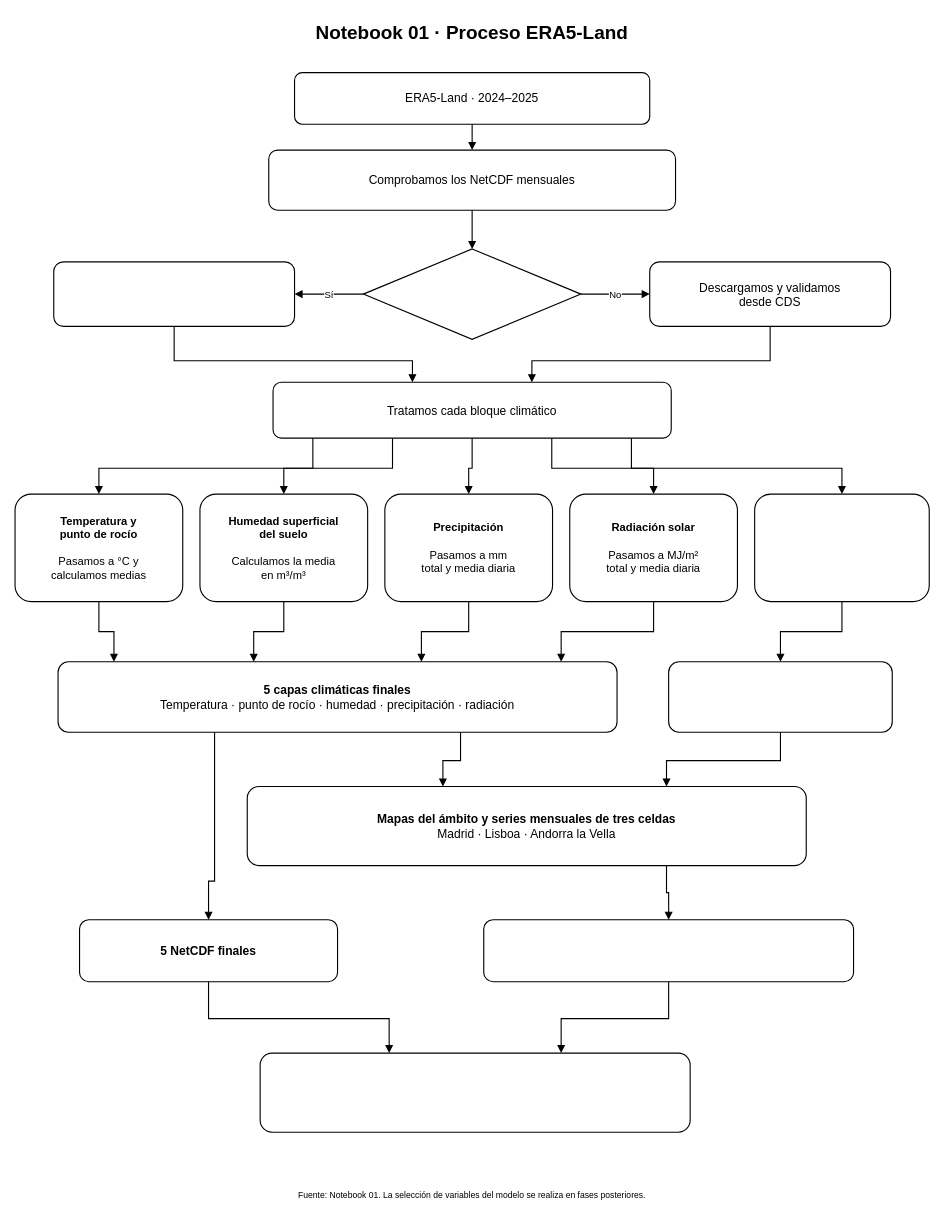
Some shapes in this 945 by 1226 pixel diagram are drawn without their labels. Each missing label, with the box of its shape:
12 figuras PNG + 6 CSV de referencia: (483, 919, 854, 982)
Paquete climático final 23 archivos · ZIP: (259, 1052, 690, 1132)
Reutilizamos el archivo: (53, 261, 295, 327)
Viento · apoyo exploratorio No entra en los 5 NetCDF finales: (668, 661, 892, 732)
Viento · U10 y V10 Calculamos la velocidad media como apoyo exploratorio: (754, 493, 929, 602)
¿Archivo disponible y válido?: (362, 248, 581, 339)
